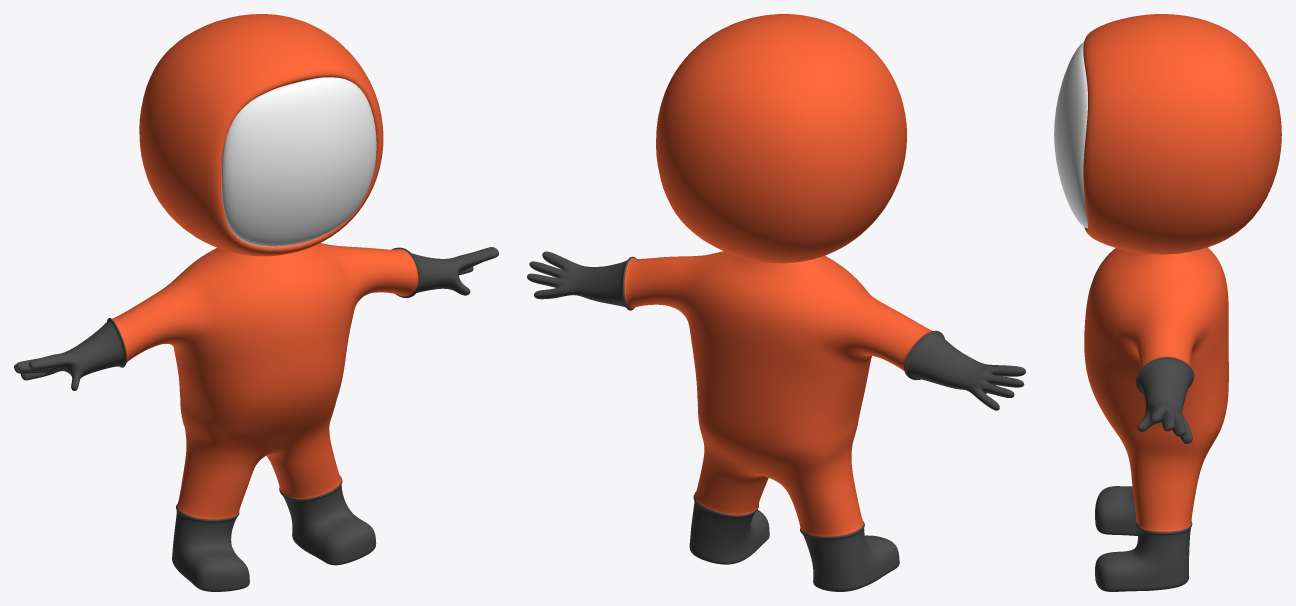
File: astronau1t.glb
The picture shows the model from 3 angles, left to right: view 1: azimuth 30°, elevation 25°; view 2: azimuth 150°, elevation 25°; view 3: azimuth 270°, elevation 25°; orthographic projection. The views are drawn at different scales.
Parts seen in each view (by area): view 1: as; view 2: as; view 3: as.
Part boxes in pixels (x1,y1,x2,y2): as: [14, 14, 498, 591]; as: [527, 14, 1025, 591]; as: [1054, 14, 1281, 591].
Size of the model in its own units: 3.58 by 3.77 by 1.47.
